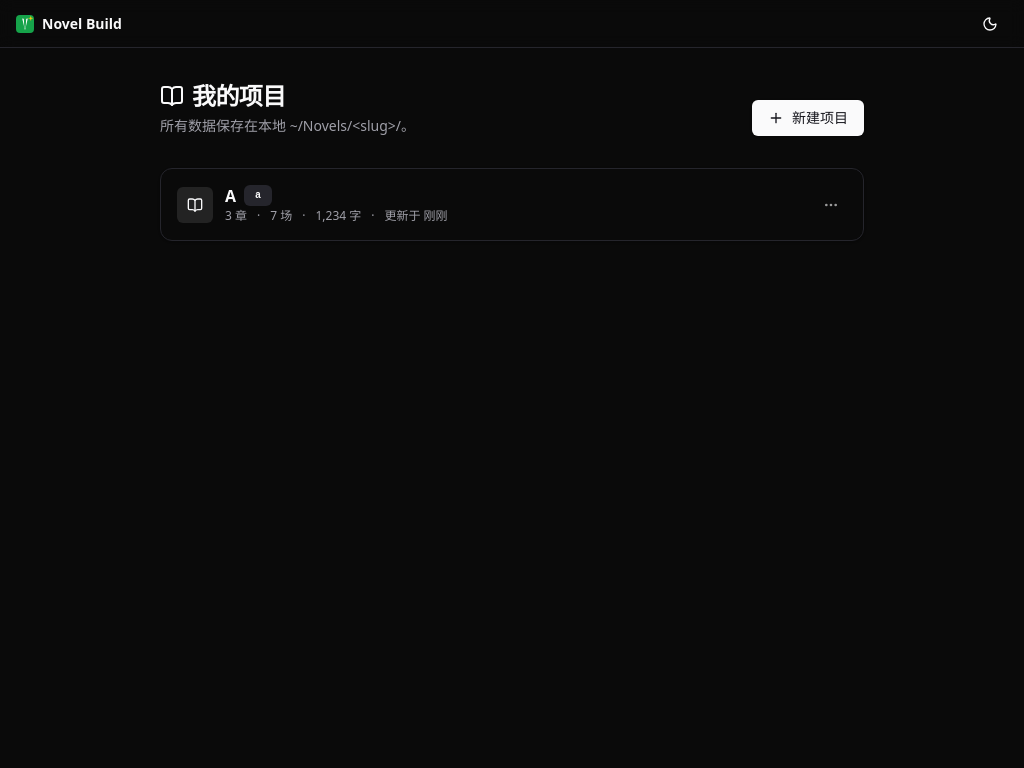
Test case: ProjectsPage › clicking 新建项目 opens a prompt dialog
The image size is (1024, 768).
Click the button "新建项目": (808, 118) [752,100,864,136]
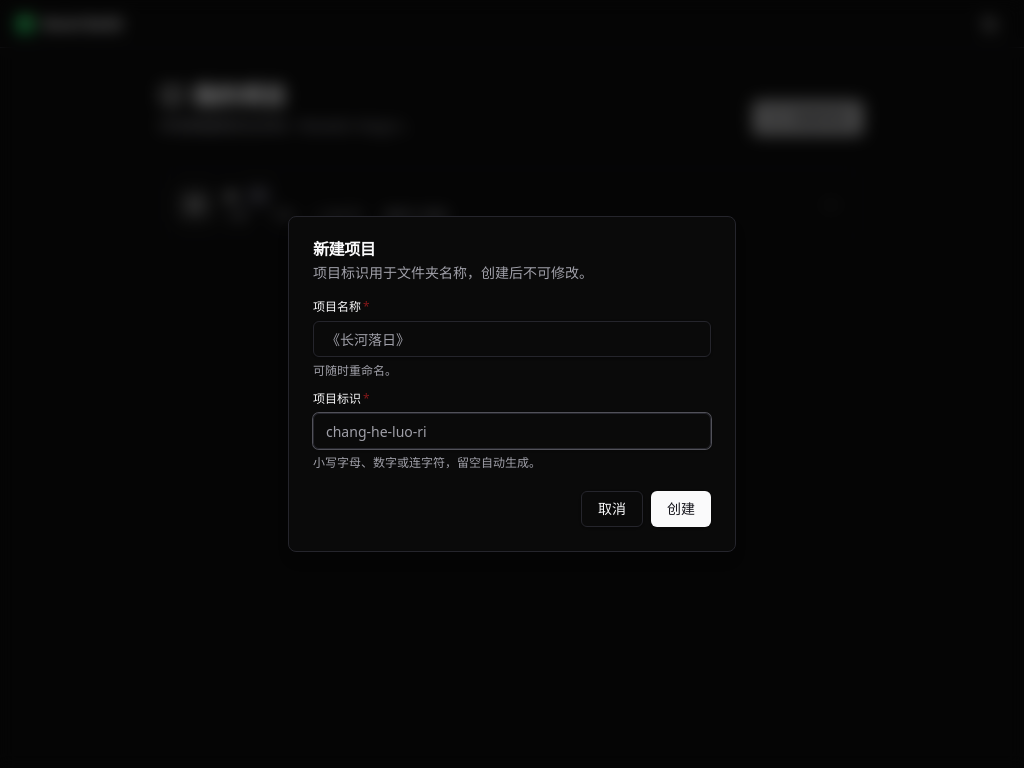
Expected: the dialog is shown, [288,216,736,552]
Expected: the text "项目名称" is shown, [313,298,361,315]
